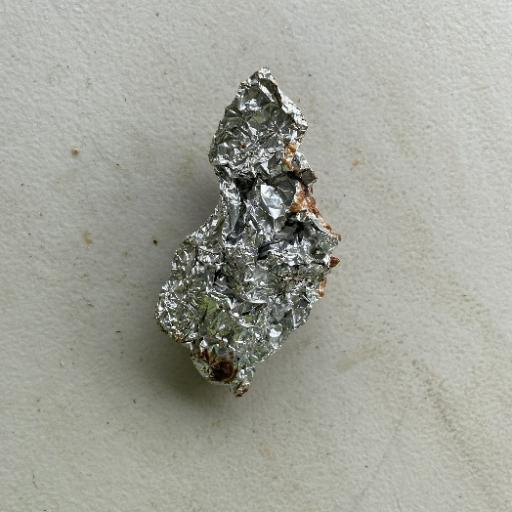Metal: (152, 66, 342, 398)
